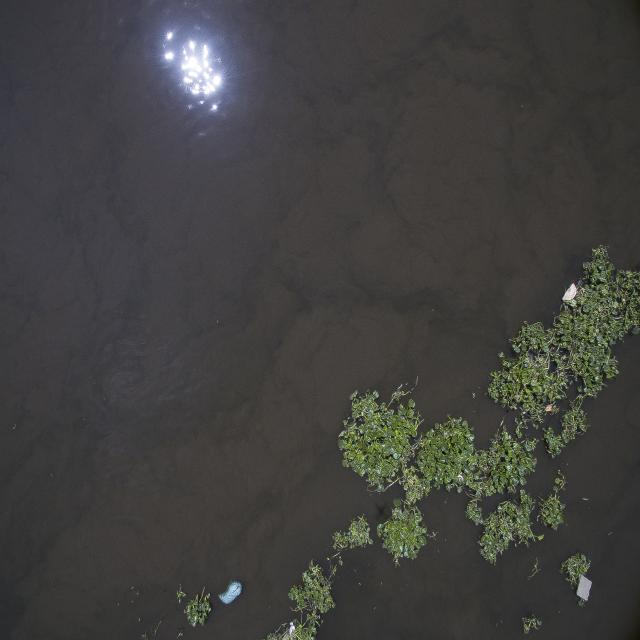plastic: (216, 580, 248, 610), (572, 574, 598, 606), (559, 284, 581, 310)
